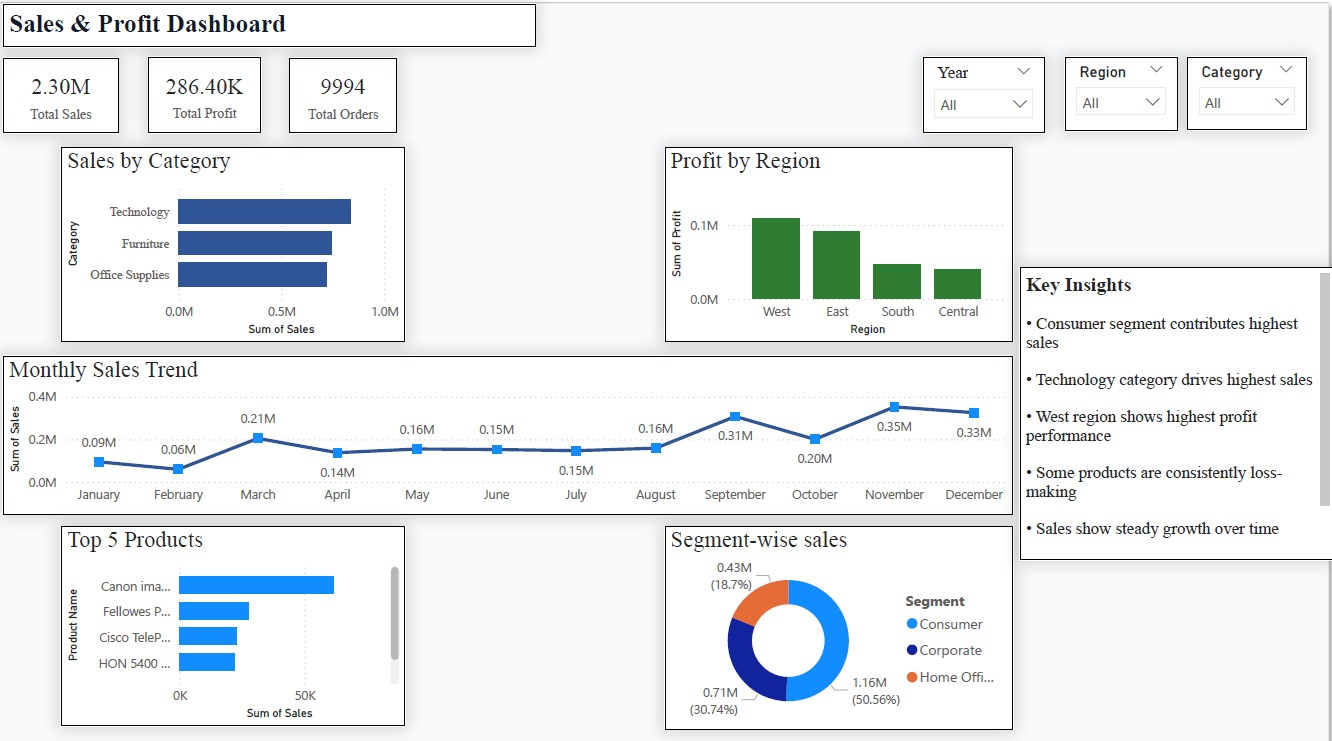

What the dashboard file says about the page in this screenshot:
{"tool":"powerbi","page":{"name":"Sales & Profit Dashboard","canvas":[1280,720],"ordinal":0},"visuals":[{"type":"shape","box":[0,0,1280.3,720.4],"z":0},{"type":"card","fields":{"Values":["Sample - Superstore.Total Sales"]},"box":[12.2,61.1,110.1,72.1],"z":1000},{"type":"card","fields":{"Values":["Sample - Superstore.Total Profit"]},"box":[150.4,59.9,106.4,73.4],"z":2000},{"type":"card","fields":{"Values":["Sample - Superstore.Total Total Orders"]},"box":[283.7,61.1,102.7,72.1],"z":3000},{"type":"clusteredBarChart","title":"Sales by Category","fields":{"Category":["Sample - Superstore.Category"],"Y":["Sum(Sample - Superstore.Sales)"]},"box":[67.3,145.5,326.5,185.9],"z":4000},{"type":"clusteredColumnChart","title":"Profit by Region","fields":{"Y":["Sum(Sample - Superstore.Profit)"],"Category":["Sample - Superstore.Region"]},"box":[639.5,145.5,331.4,185.9],"z":5000},{"type":"lineChart","title":"Monthly Sales Trend","fields":{"Y":["Sum(Sample - Superstore.Sales)"],"Category":["Sample - Superstore.Order Date.Variation.Date Hierarchy.Month"]},"box":[12.2,343.6,958.7,151.6],"z":6000},{"type":"donutChart","title":" Segment-wise sales","fields":{"Category":["Sample - Superstore.Segment"],"Y":["Sum(Sample - Superstore.Sales)"]},"box":[639.5,506.3,331.4,193.2],"z":7000},{"type":"clusteredBarChart","title":"Top 5 Products","fields":{"Category":["Sample - Superstore.Product Name"],"Y":["Sum(Sample - Superstore.Sales)"]},"box":[67.3,506.3,326.5,189.5],"z":8000},{"type":"textbox","box":[12.2,9.8,506.3,41.6],"z":8001},{"type":"slicer","fields":{"Values":["Sample - Superstore.Region"]},"box":[1019.8,59.9,107.6,70.9],"z":8002},{"type":"slicer","fields":{"Values":["Sample - Superstore.Category"]},"box":[1136,59.9,113.7,69.7],"z":8003},{"type":"textbox","box":[977,260.5,299.6,277.6],"z":8004},{"type":"slicer","fields":{"Values":["Sample - Superstore.Order Date.Variation.Date Hierarchy.Year","Sample - Superstore.Order Date.Variation.Date Hierarchy.Quarter","Sample - Superstore.Order Date.Variation.Date Hierarchy.Month","Sample - Superstore.Order Date.Variation.Date Hierarchy.Day"]},"box":[885.3,59.9,116.2,73.4],"z":8005}]}

Visuals, with their boxes in screenshot pixels (x1, y1, x2, y2), scaled from the page's 1280x720 canvas onto the 1332x741 screenshot:
shape: {"left": 0, "top": 0, "right": 1331, "bottom": 740}
card - Sample - Superstore.Total Sales: {"left": 13, "top": 63, "right": 127, "bottom": 137}
card - Sample - Superstore.Total Profit: {"left": 157, "top": 62, "right": 267, "bottom": 137}
card - Sample - Superstore.Total Total Orders: {"left": 295, "top": 63, "right": 402, "bottom": 137}
"Sales by Category" clusteredBarChart: {"left": 70, "top": 150, "right": 410, "bottom": 341}
"Profit by Region" clusteredColumnChart: {"left": 665, "top": 150, "right": 1010, "bottom": 341}
"Monthly Sales Trend" lineChart: {"left": 13, "top": 354, "right": 1010, "bottom": 510}
" Segment-wise sales" donutChart: {"left": 665, "top": 521, "right": 1010, "bottom": 720}
"Top 5 Products" clusteredBarChart: {"left": 70, "top": 521, "right": 410, "bottom": 716}
textbox: {"left": 13, "top": 10, "right": 540, "bottom": 53}
slicer - Sample - Superstore.Region: {"left": 1061, "top": 62, "right": 1173, "bottom": 135}
slicer - Sample - Superstore.Category: {"left": 1182, "top": 62, "right": 1300, "bottom": 133}
textbox: {"left": 1017, "top": 268, "right": 1328, "bottom": 554}
slicer - Sample - Superstore.Order Date.Variation.Date Hierarchy.Year x Sample - Superstore.Order Date.Variation.Date Hierarchy.Quarter: {"left": 921, "top": 62, "right": 1042, "bottom": 137}
